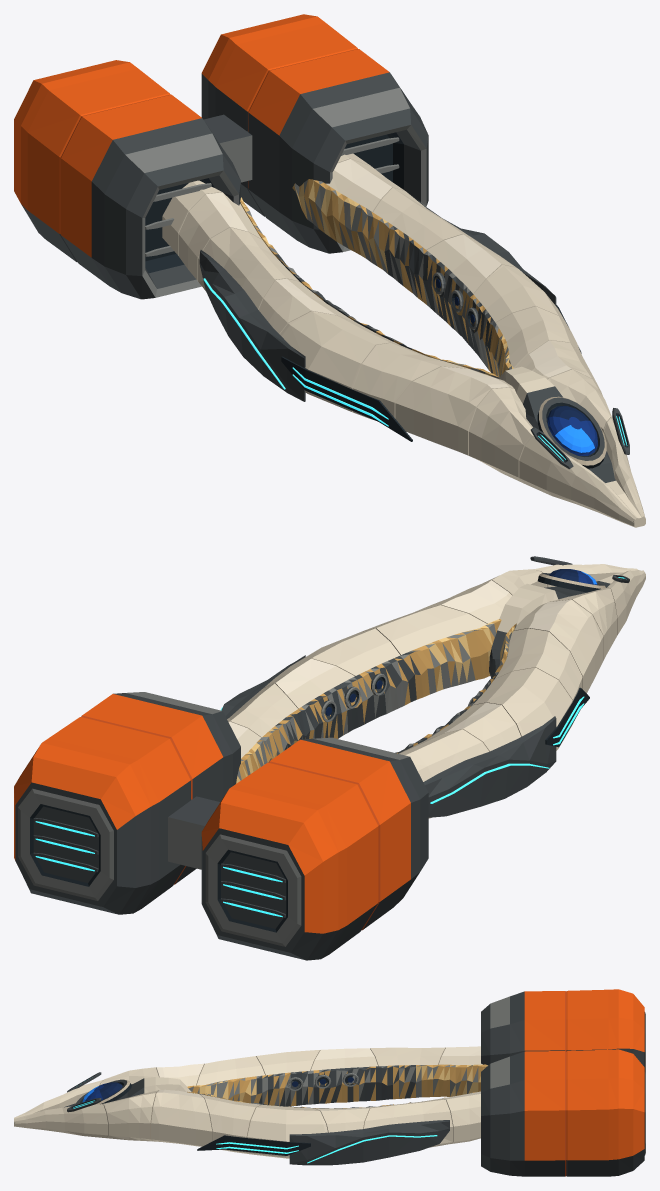
The model's file is Kestrel.fbx.
3 views of the same model, one above another, from view 1: azimuth 30°, elevation 25°; view 2: azimuth 150°, elevation 25°; view 3: azimuth 270°, elevation 25° (orthographic). The views are drawn at different scales.
Parts seen in each view (by area): view 1: Kestrel_Hull; view 2: Kestrel_Hull; view 3: Kestrel_Hull.
Part boxes in pixels (box(x1,y1,x2,y2)): Kestrel_Hull: box(14, 14, 645, 527); Kestrel_Hull: box(14, 556, 645, 960); Kestrel_Hull: box(14, 989, 645, 1176).
Size of the model in its own units: 0.0774 by 0.0345 by 0.202.
